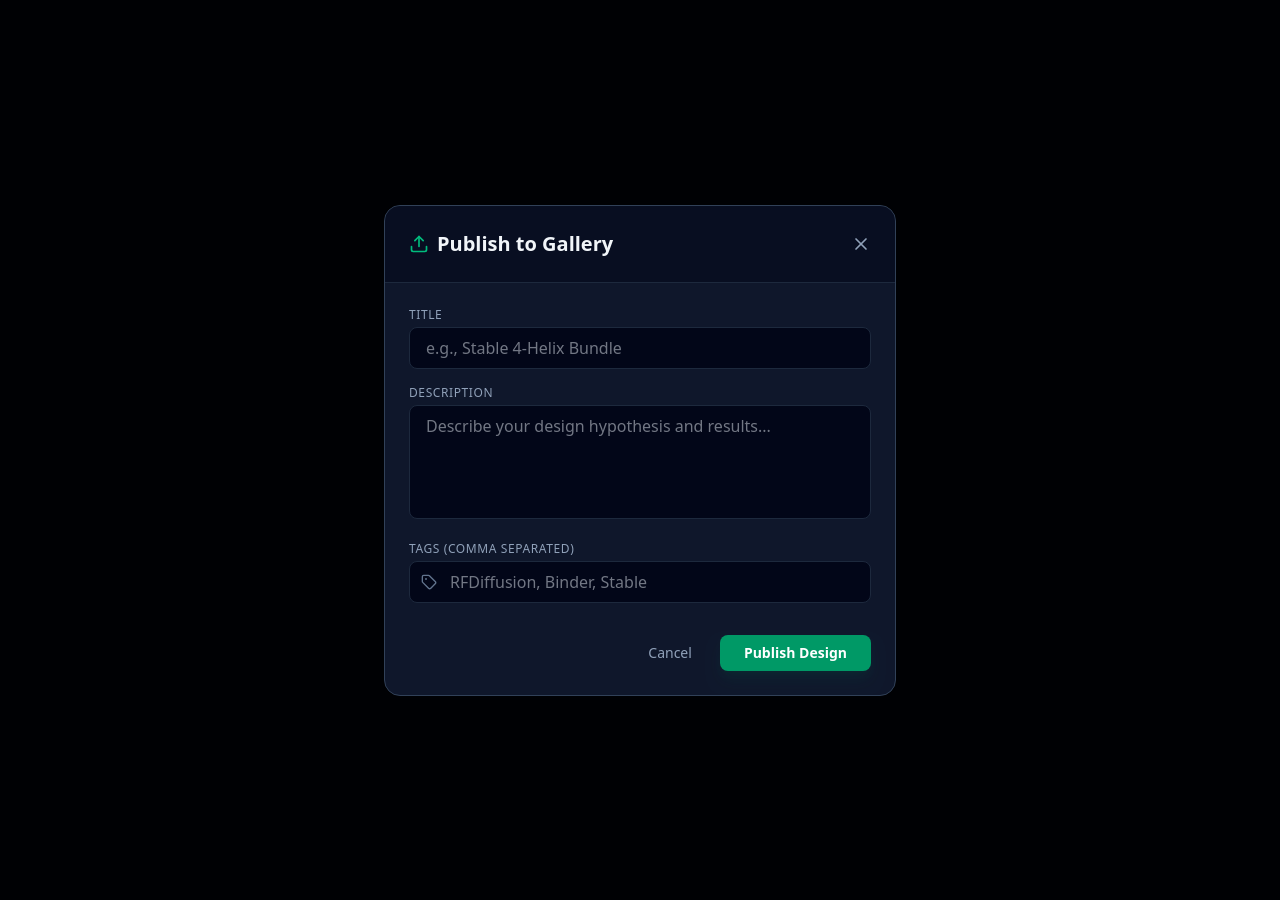
Test: PublishModal › shows error when title is too short
Type "AB" into the field with placeholder "e.g., Stable 4-Helix Bundle". click: (640, 348)
box: [409, 326, 871, 368]
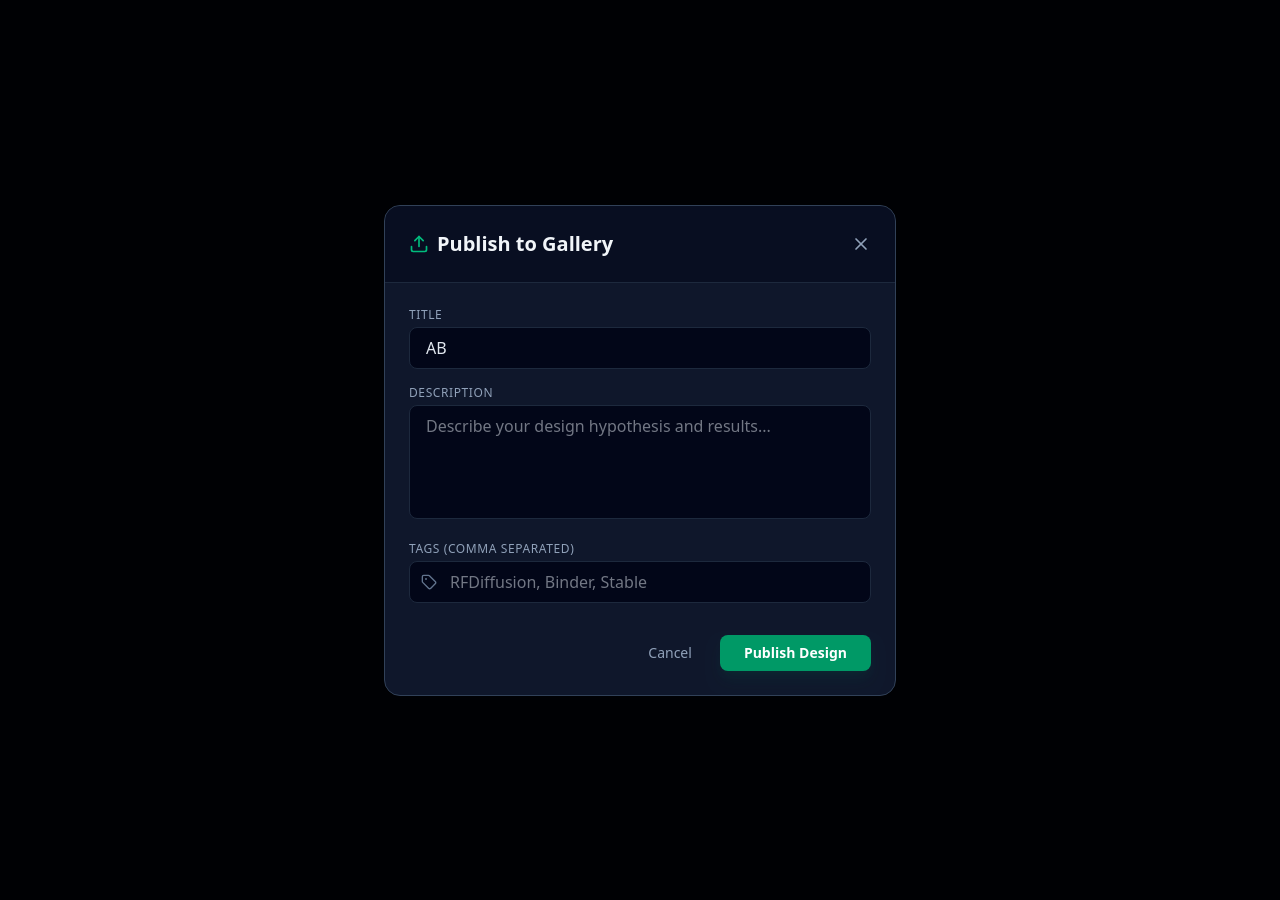
Type "Some description" into the text box with placeholder "Describe your design hypothesis and results...". click: (640, 462)
box: [409, 404, 871, 518]
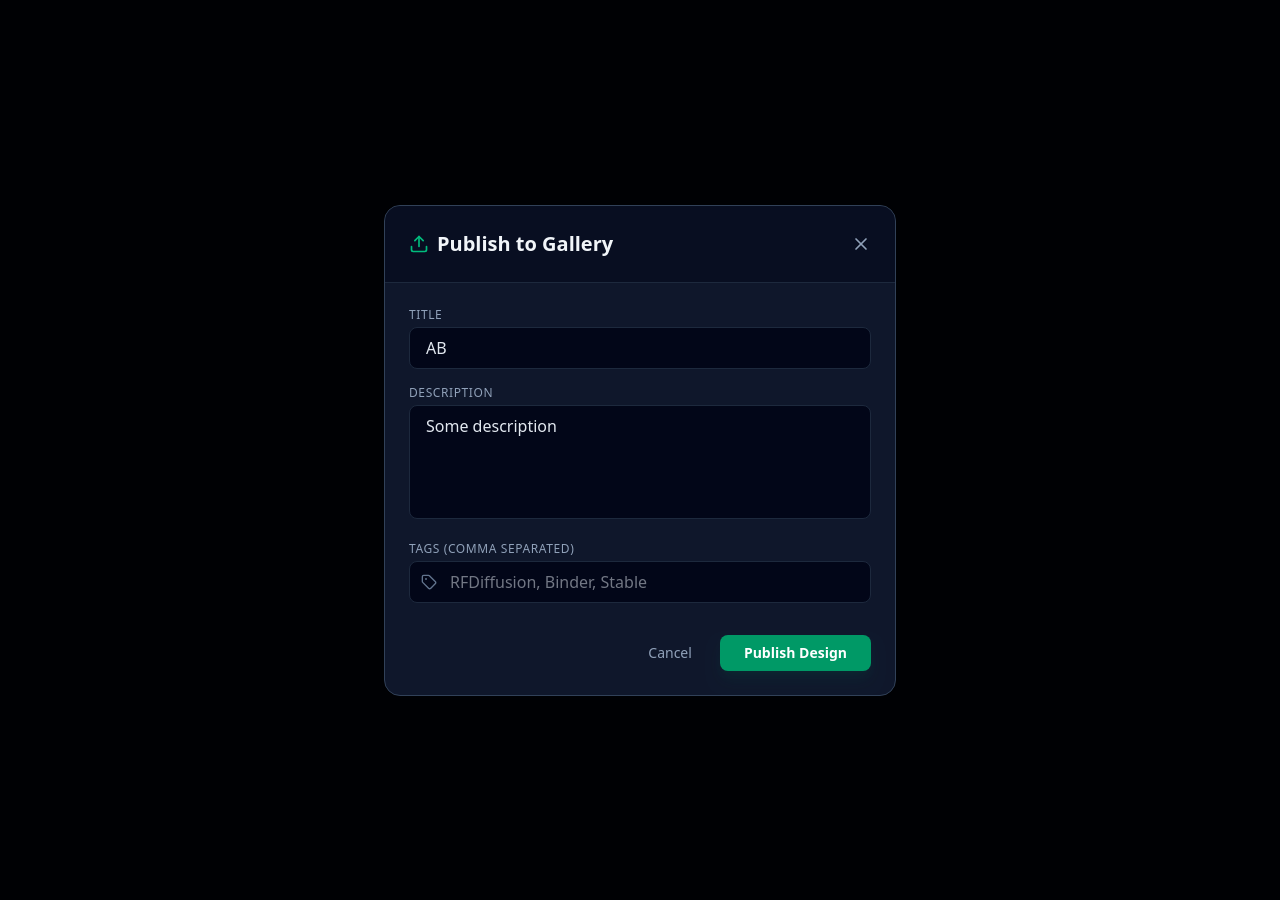
Click the button "Publish Design". click: (795, 652)
box: [720, 634, 871, 670]
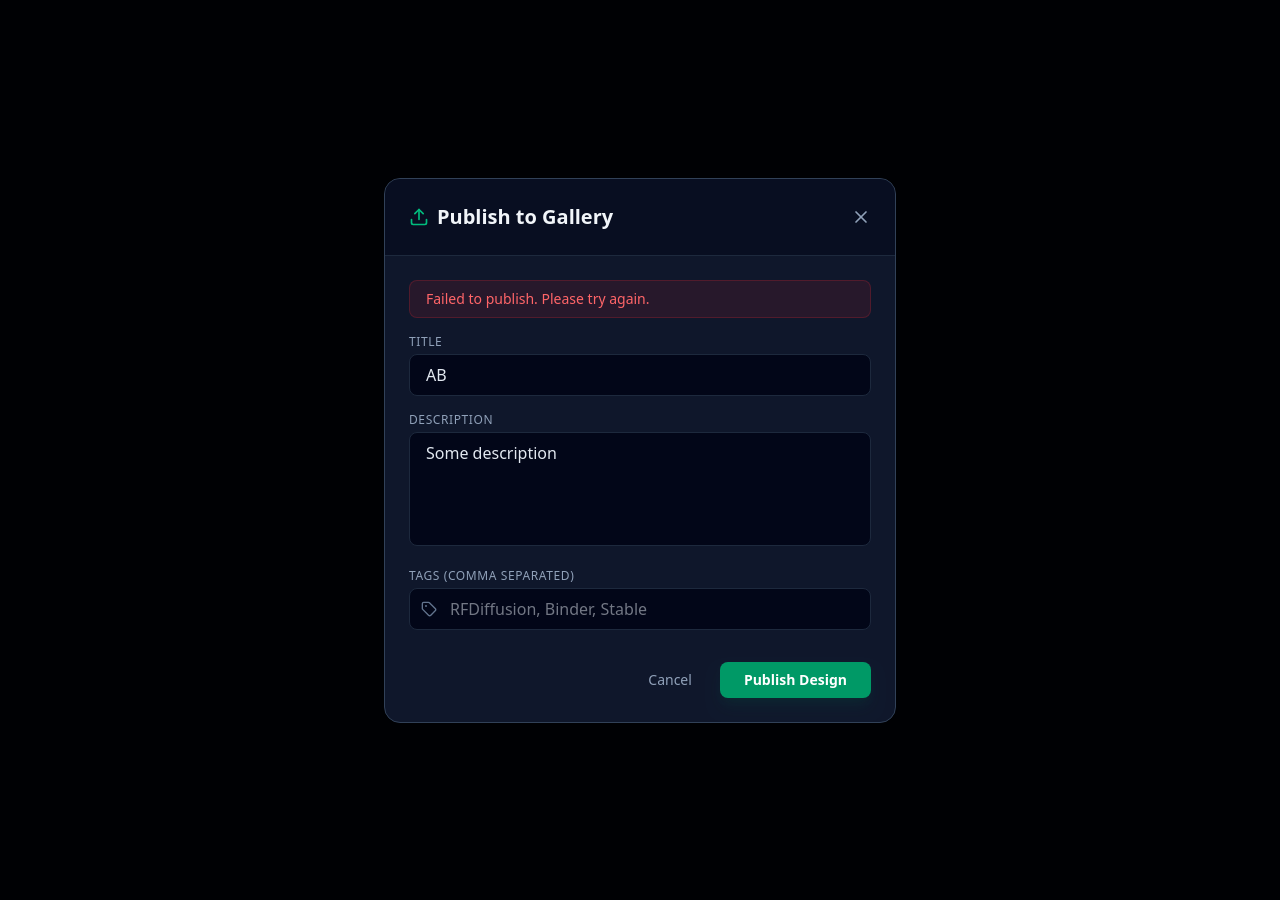
Result: the text "Failed to publish. Please try again." is shown at [409, 280, 871, 318]
